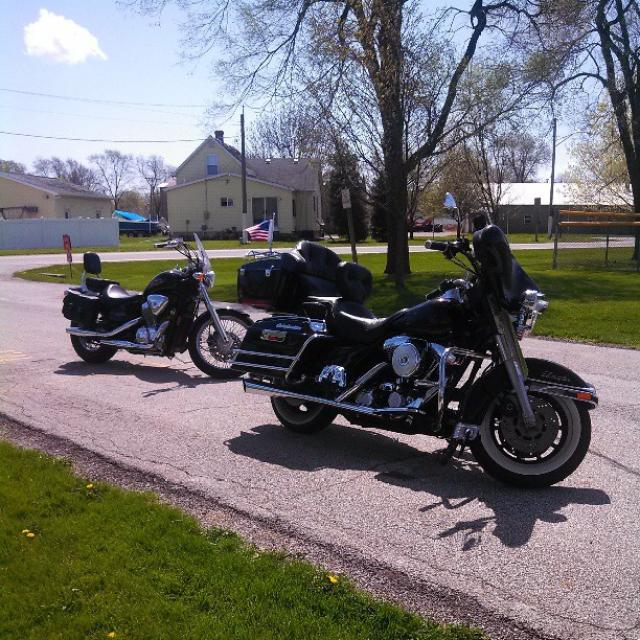motor: (226, 193, 601, 488), (62, 233, 249, 385)
